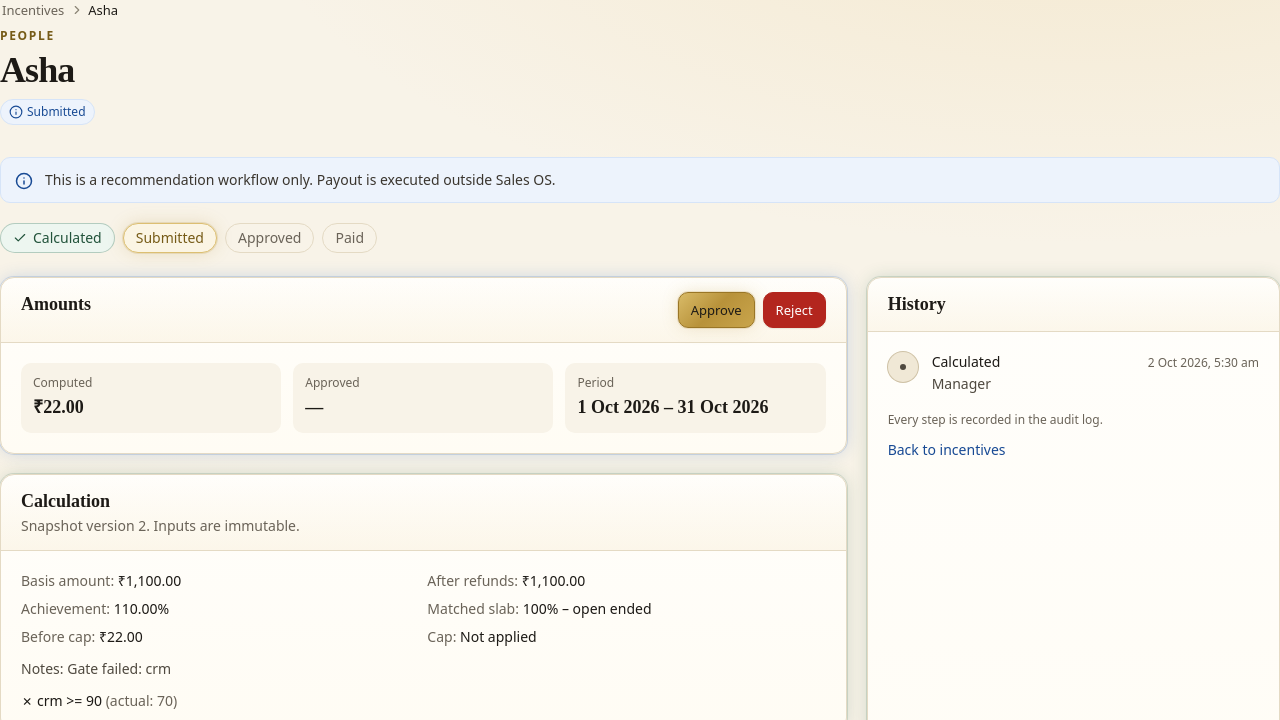
it: recommendation detail › renders the calculation breakdown, snapshot and gate results for a full projection, with Founder actions
This screenshot has width=1280, height=720.
Check: the text "Matched slab:" is shown, box [427,599,523,618]
Check: the text "110.00%" is shown, box [114,599,169,618]
Click the button "Reject".
click(794, 310)  # box [763,292,826,328]
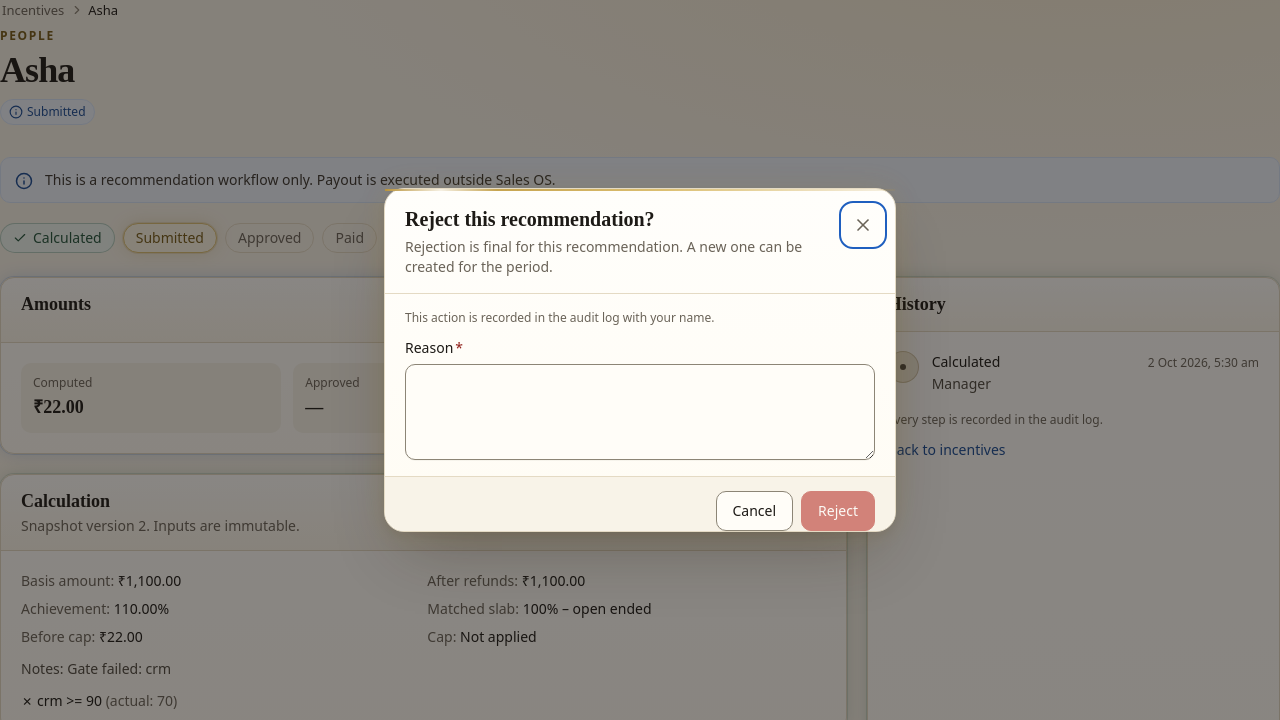
Check: the button "Reject" is disabled, box [801,491,875,531]
